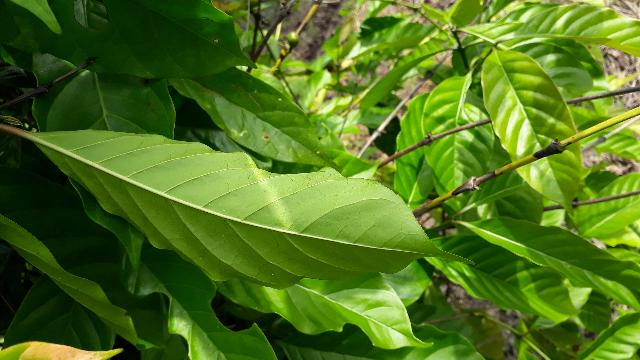healthy: (32, 127, 482, 292)
